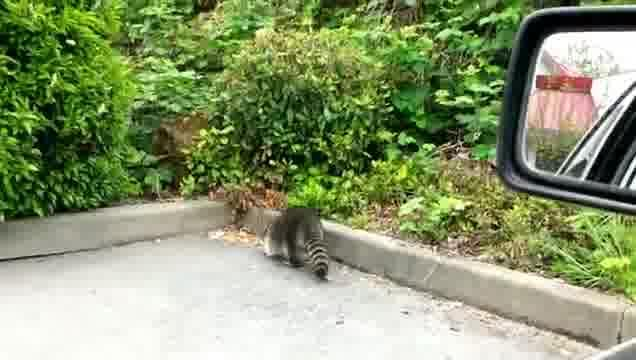raccoon: (266, 205, 330, 280)
